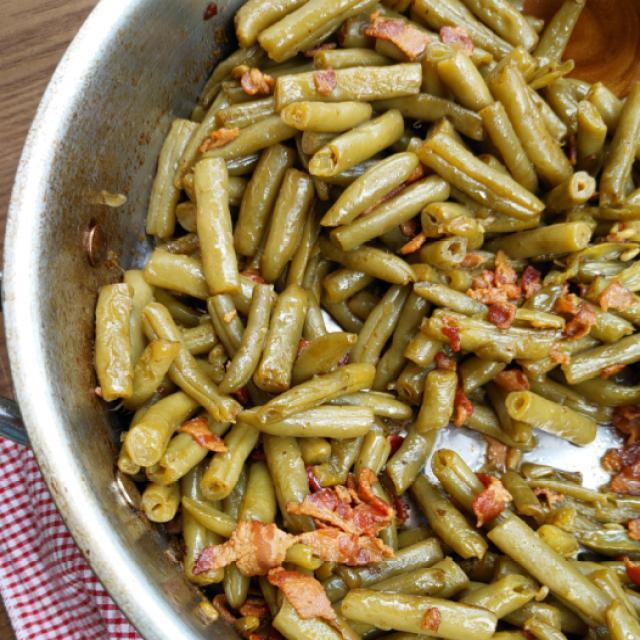Beans: (84, 0, 640, 640)
